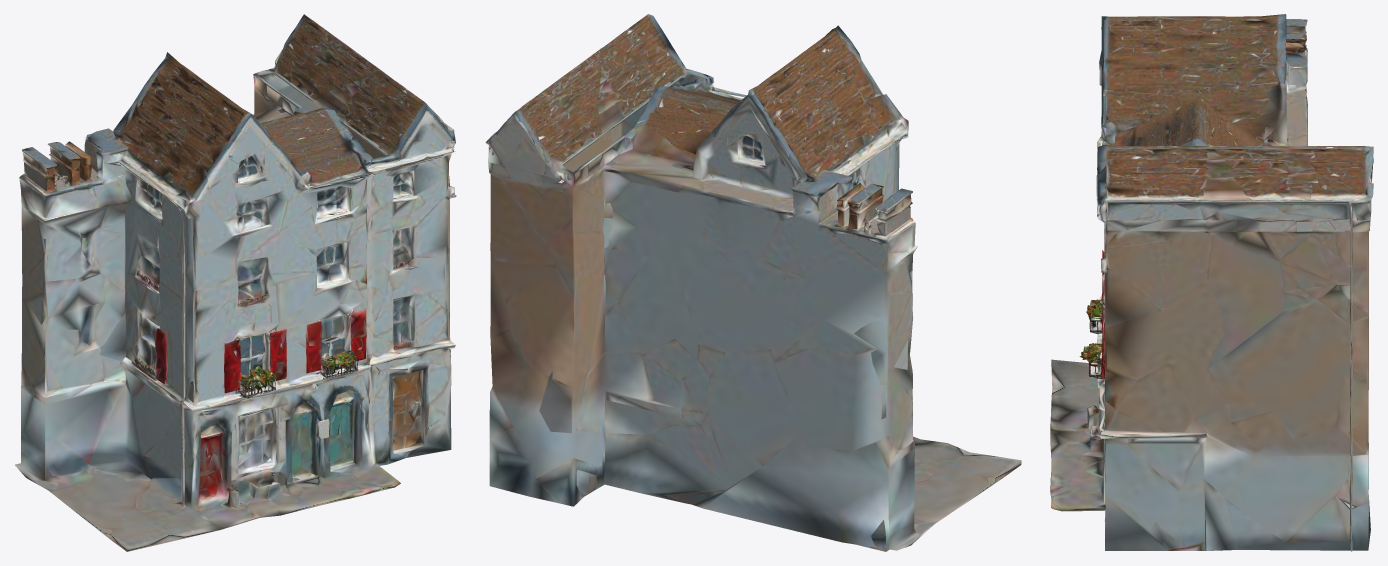
File: house-blue.glb
3 renders of one model, left to right at view 1: azimuth 30°, elevation 25°; view 2: azimuth 150°, elevation 25°; view 3: azimuth 270°, elevation 25°, orthographic. The views are drawn at different scales.
Bounding box in the file's own units: 1.81 × 1.9 × 1.3.
Materials: 1 (1 with a texture image).
